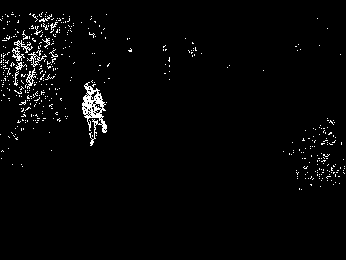person: (78, 78, 110, 149)
